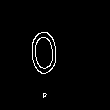O_S: (38, 25, 72, 85)
